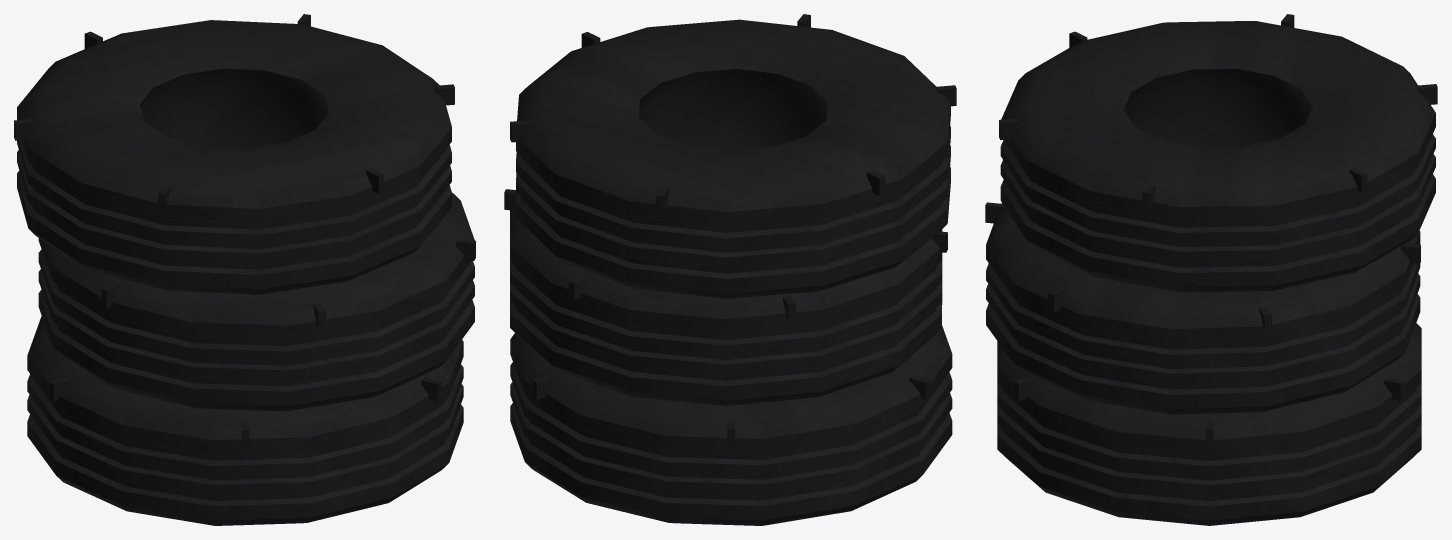
Rendered from pilha-de-pneus-3.glb.
3 views of the same model, side by side, from view 1: azimuth 30°, elevation 25°; view 2: azimuth 150°, elevation 25°; view 3: azimuth 270°, elevation 25° (orthographic).
Visible parts, largest first — view 1: pneu-2, pneu-1, pneu-0; view 2: pneu-2, pneu-0, pneu-1; view 3: pneu-2, pneu-1, pneu-0.
Part boxes in pixels (x1,y1,x2,y2): pneu-2: [17, 20, 451, 294]; pneu-1: [38, 192, 474, 411]; pneu-0: [27, 316, 463, 525]; pneu-2: [516, 19, 950, 298]; pneu-0: [510, 325, 952, 525]; pneu-1: [510, 201, 942, 405]; pneu-2: [1000, 21, 1435, 292]; pneu-1: [986, 203, 1420, 414]; pneu-0: [997, 323, 1421, 525].
Bounding box in the file's own units: 0.709 × 0.6 × 0.717.
Materials: 1 (1 with a texture image).
